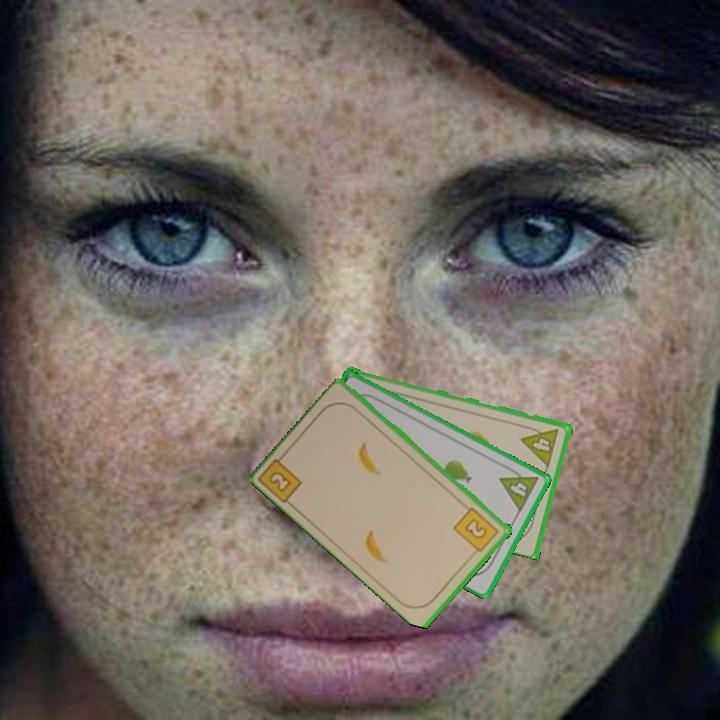2b: (450, 504, 502, 558), (257, 448, 305, 506)
4p: (496, 462, 542, 515), (518, 422, 562, 469)
